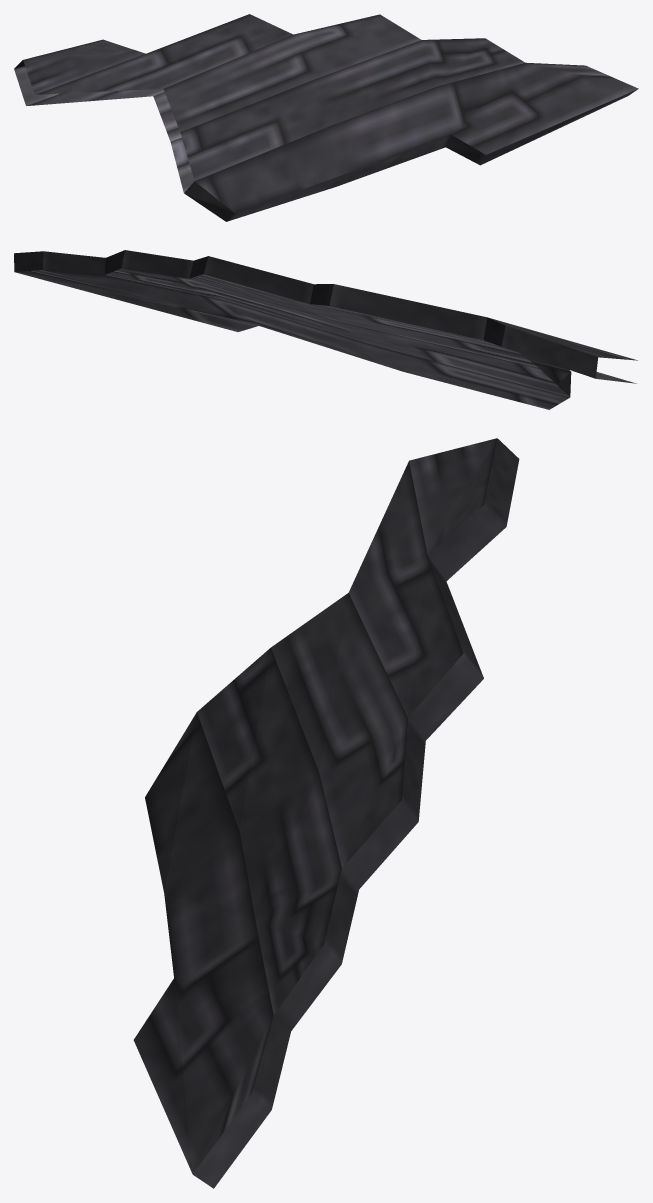
The picture shows the model from 3 angles, top to bottom: view 1: azimuth 30°, elevation 25°; view 2: azimuth 150°, elevation 25°; view 3: azimuth 270°, elevation 25°; orthographic projection. The views are drawn at different scales.
Parts seen in each view (by area): view 1: B_0167_3a_0; view 2: B_0167_3a_0; view 3: B_0167_3a_0.
Boxes of the visible parts, x1,y1,x2,y2 form: B_0167_3a_0: (14, 14, 638, 221); B_0167_3a_0: (14, 250, 637, 409); B_0167_3a_0: (133, 438, 519, 1188).
Size of the model in its own units: 4.56 by 1.08 by 1.37.
1 material, 1 textured.
